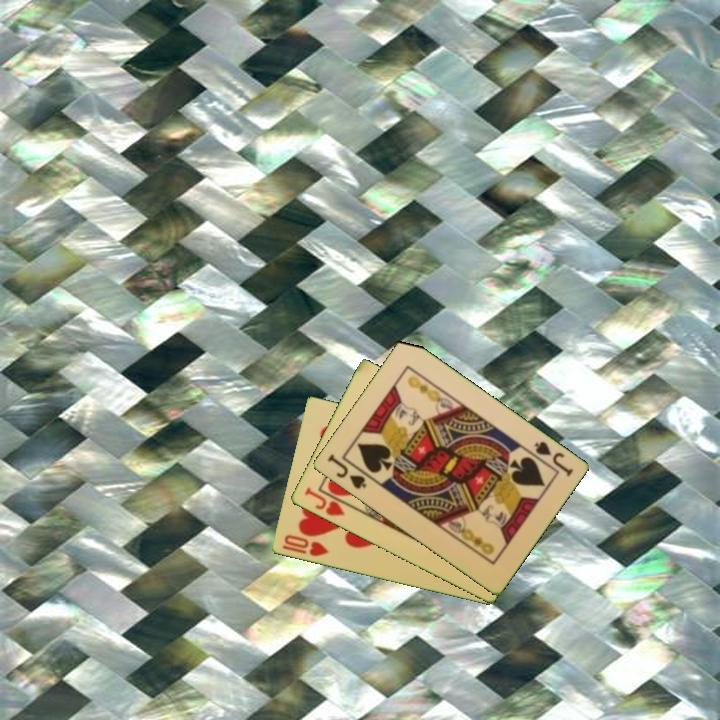10h: (278, 531, 332, 560)
Jh: (300, 483, 355, 519)
Js: (323, 451, 369, 492), (530, 438, 576, 479)
